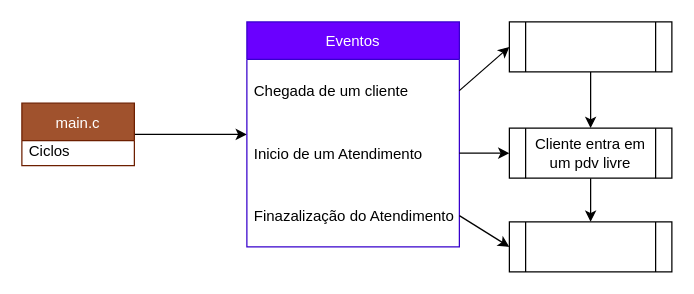
Image size: 694x294. Some labels were removed from this diagram. Here are the shapes that lost their labels. From the top down, the centre of each, then its label:
At (x=590, y=46): "Inserido na fila".
At (x=590, y=246): "Sai do mercado".
